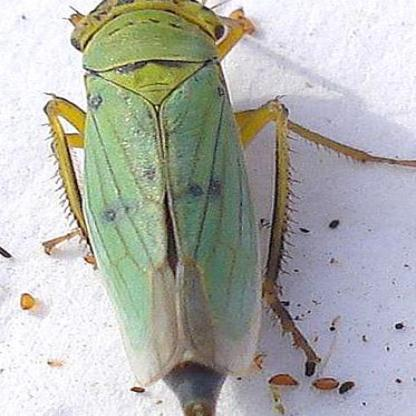green-leafhopper: (69, 4, 294, 414)
